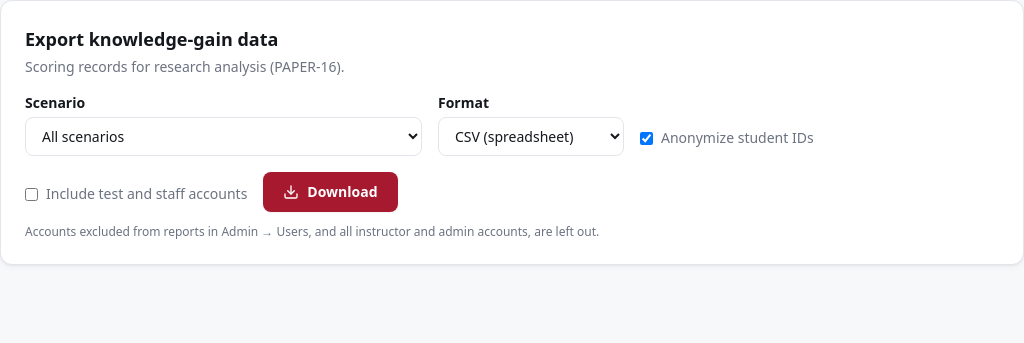
admin can include excluded accounts for checking, with a warning
Click the checkbox labelled "Include test and staff accounts". click: (32, 194)
box: [25,188,38,200]
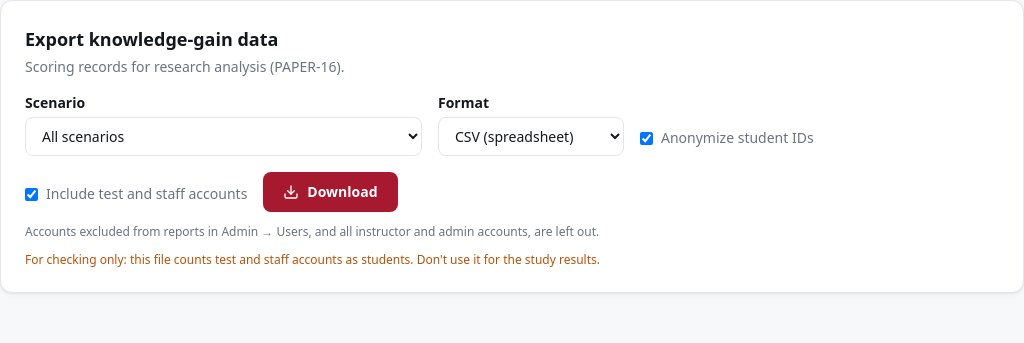
Check: the text "For checking only" is shown, box [25,251,600,268]
Click the button "Download". click: (330, 192)
box: [263,172,398,212]
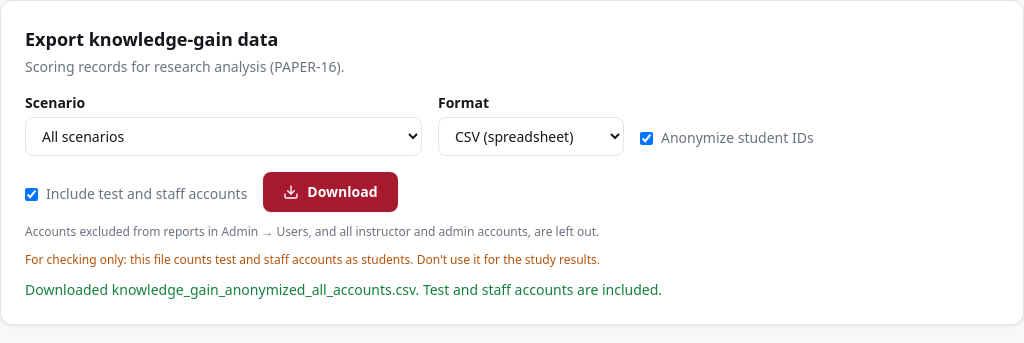
Check: the message shows "knowledge_gain_anonymized_all_accounts.csv", box [25,280,662,299]
